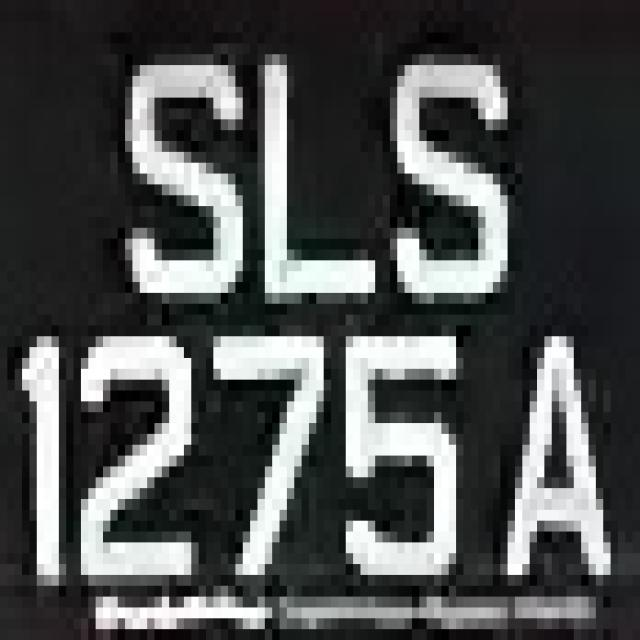1: (0, 292, 88, 596)
2: (58, 314, 198, 586)
5: (324, 293, 486, 586)
7: (199, 293, 331, 607)
A: (463, 271, 618, 618)
L: (243, 32, 375, 326)
S: (103, 22, 257, 336), (390, 54, 522, 293)
